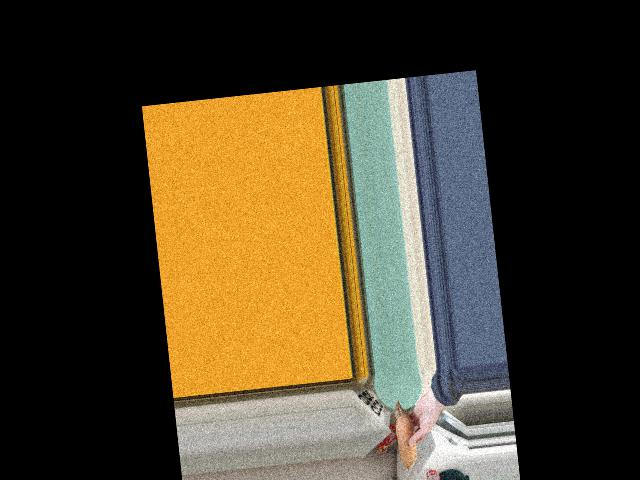sweet_potato: (393, 399, 423, 461)
